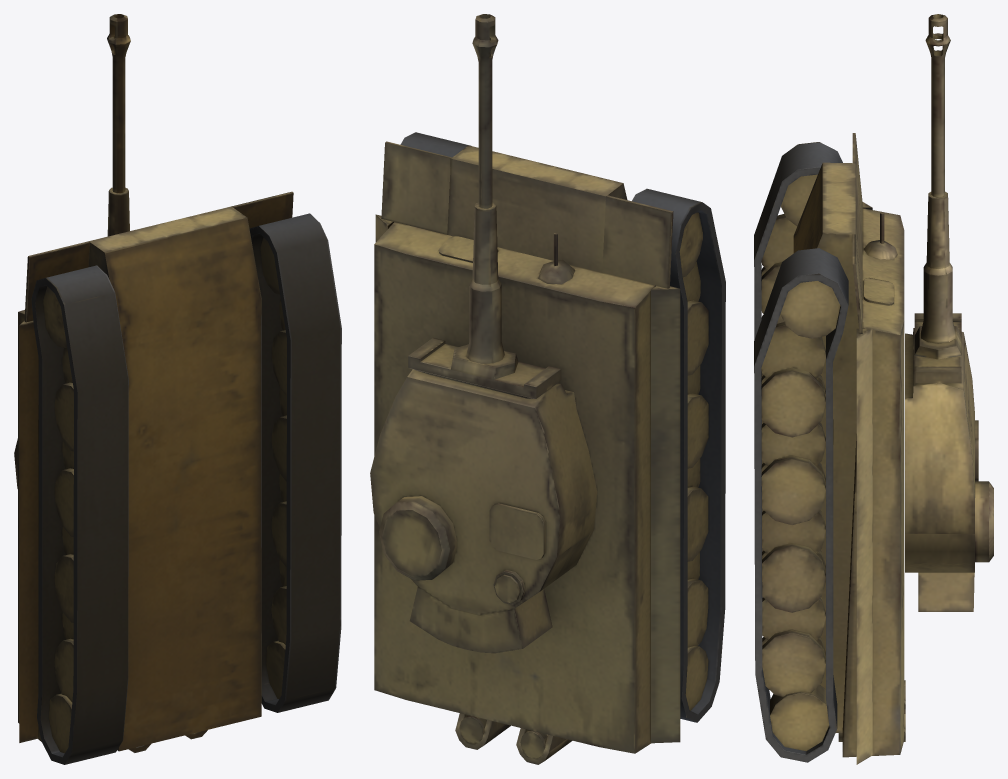
File: TigerH1.fbx
The picture shows the model from 3 angles, left to right: view 1: azimuth 30°, elevation 25°; view 2: azimuth 150°, elevation 25°; view 3: azimuth 270°, elevation 25°; orthographic projection. The views are drawn at different scales.
Parts seen in each view (by area): view 1: TigerH1 Body, TigerH1 Turret; view 2: TigerH1 Body, TigerH1 Turret; view 3: TigerH1 Body, TigerH1 Turret.
Boxes of the visible parts, x1=… form: TigerH1 Body: x1=18, y1=191, x2=341, y2=764; TigerH1 Turret: x1=14, y1=14, x2=130, y2=488; TigerH1 Body: x1=374, y1=132, x2=725, y2=764; TigerH1 Turret: x1=370, y1=14, x2=597, y2=653; TigerH1 Body: x1=754, y1=133, x2=905, y2=764; TigerH1 Turret: x1=905, y1=14, x2=993, y2=611.
Size of the model in its own units: 136 by 322 by 98.65.
